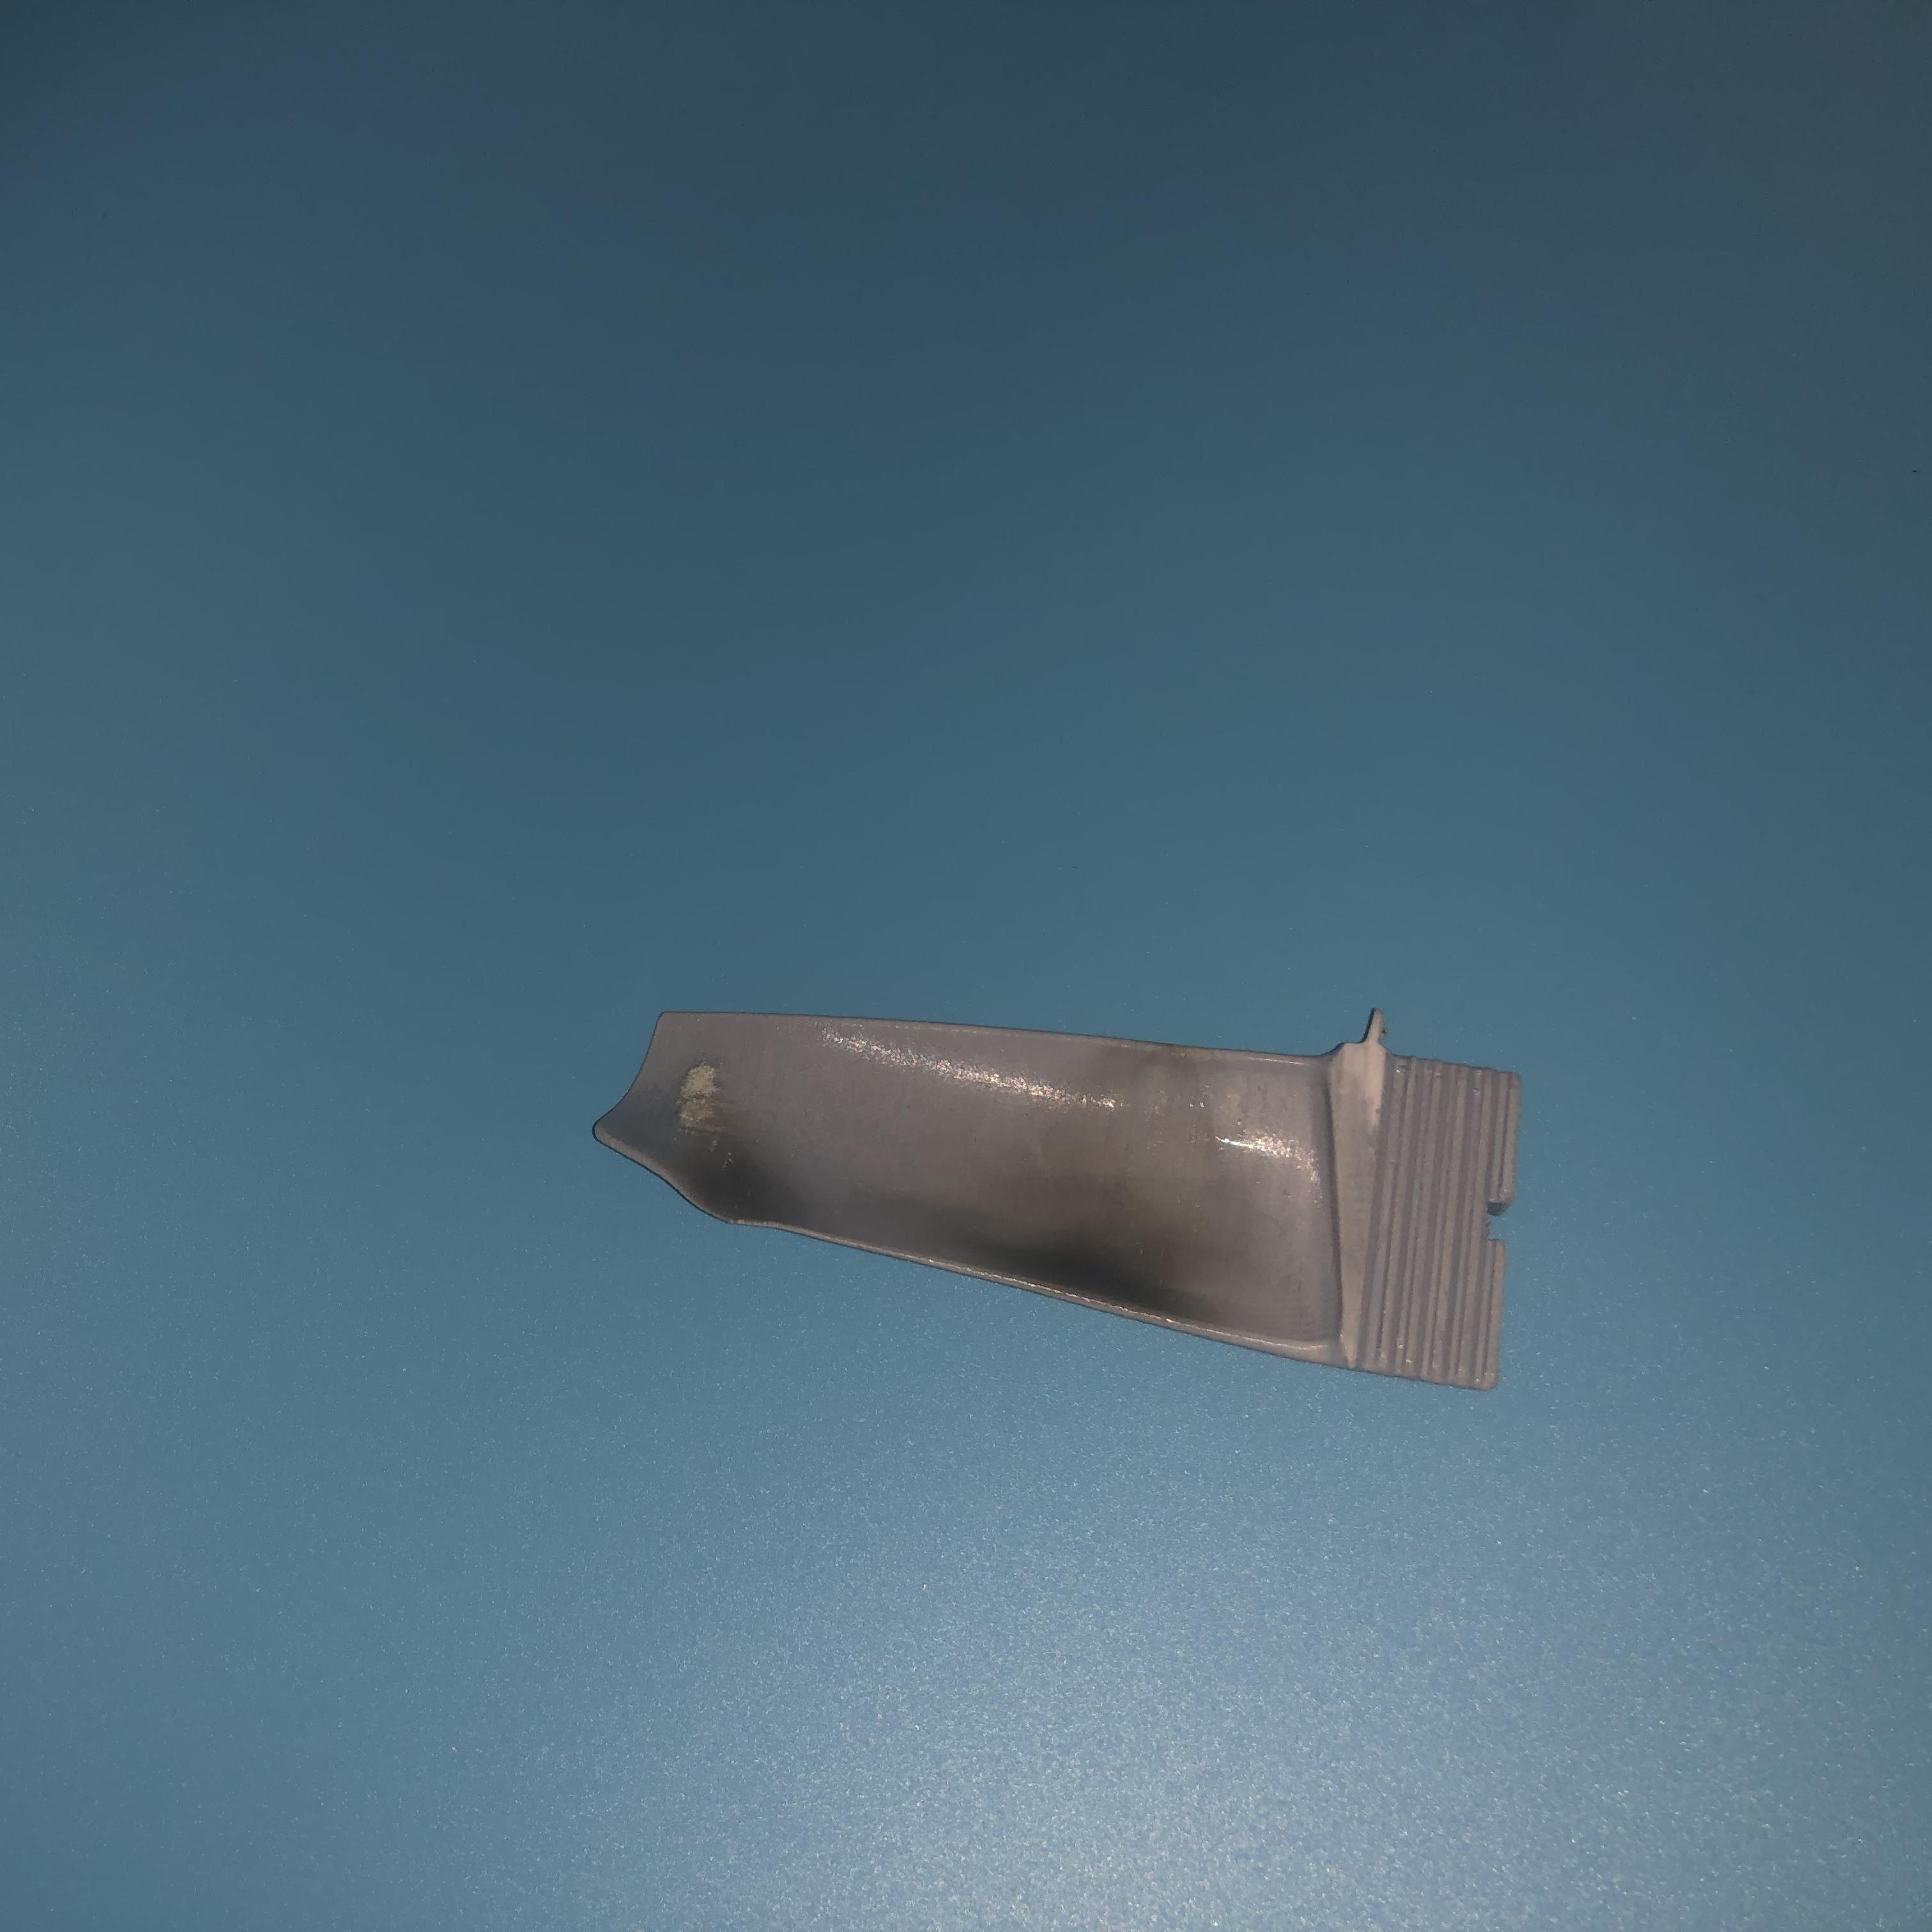ablation: (1005, 1046, 1251, 1323), (616, 1065, 810, 1221)
